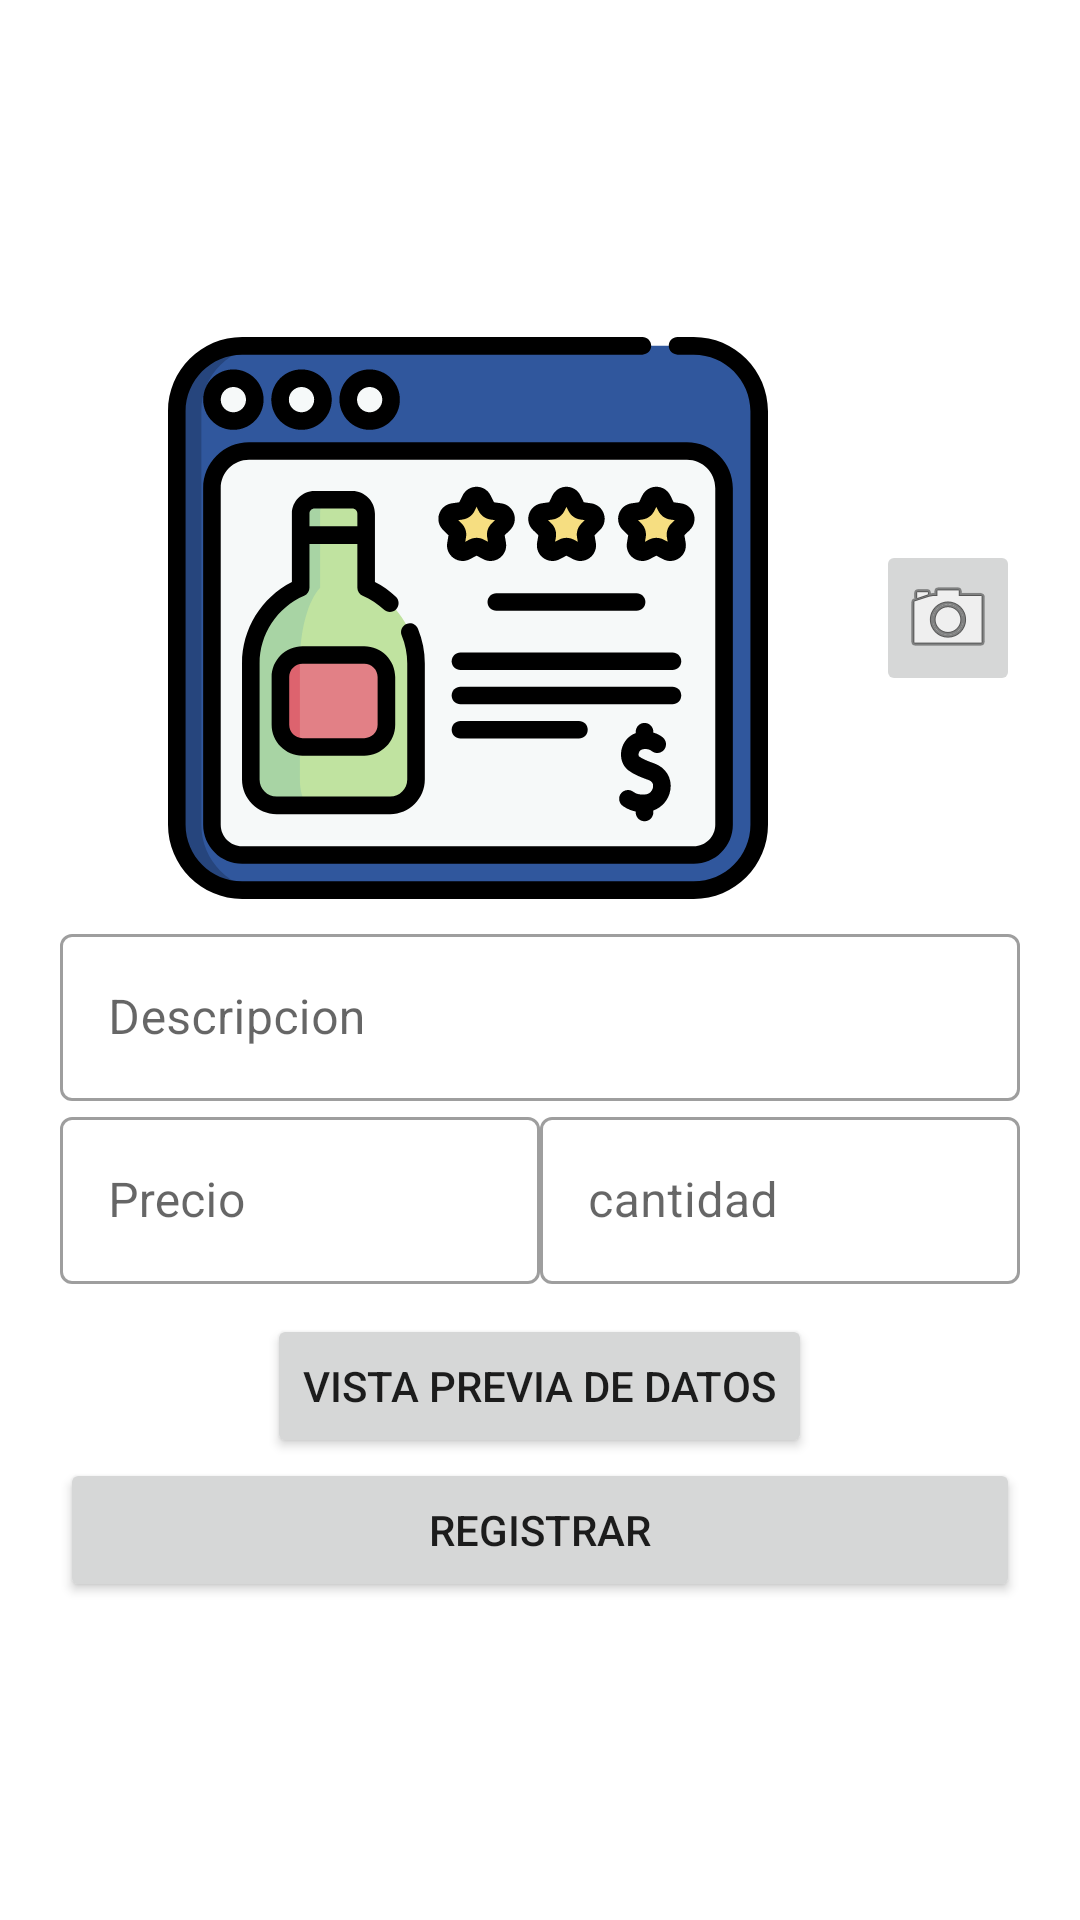

Where to tap for icons on this 1080 x 1920 app screen, as (x,y):
camera: (948,618)
